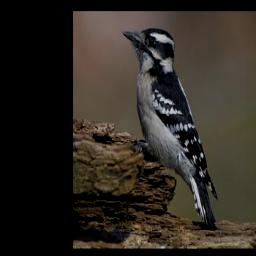Woodpecker: (122, 24, 219, 233)
